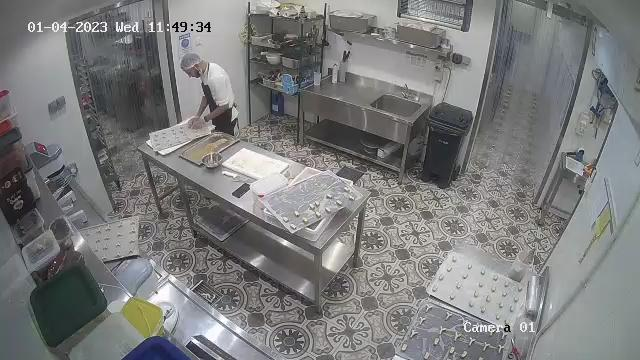apron: (202, 67, 236, 133)
